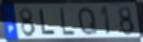1: (100, 5, 111, 37)
8: (118, 5, 136, 37), (19, 7, 37, 38)
L: (38, 8, 57, 36), (59, 7, 76, 36)
Q: (77, 6, 98, 37)
